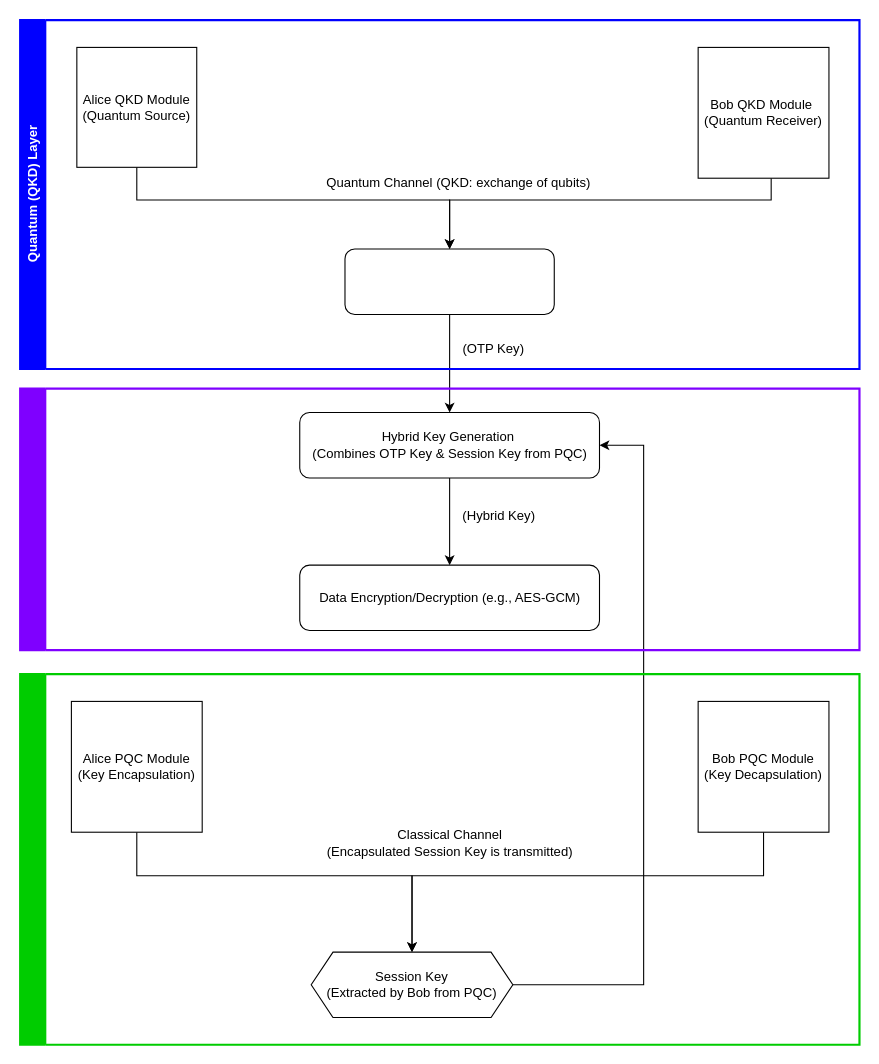
The diagram is 879 pixels wide and 1064 high, and some of its shapes have lost their labels. Each missing label, with the centre of its shape:
Classical (PQC) Layer: (x=439, y=859)
Hybrid Layer: (x=439, y=519)
Key Sifting & Error Correction (Generates OTP Key from QKD): (x=449, y=281)
